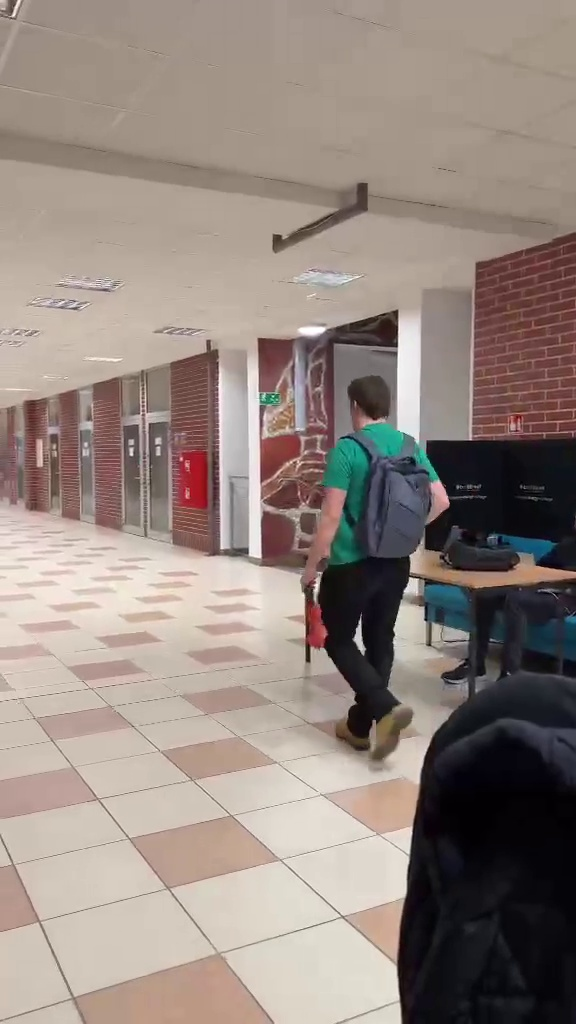no vest: (293, 377, 454, 762)
